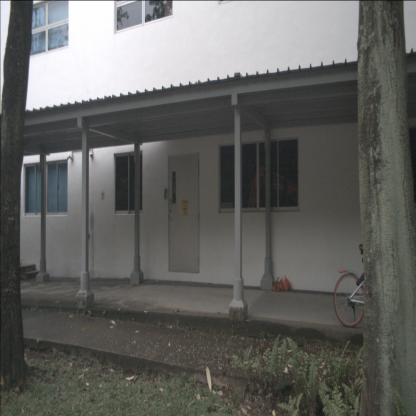vehicle-bicycle: (334, 243, 414, 329)
